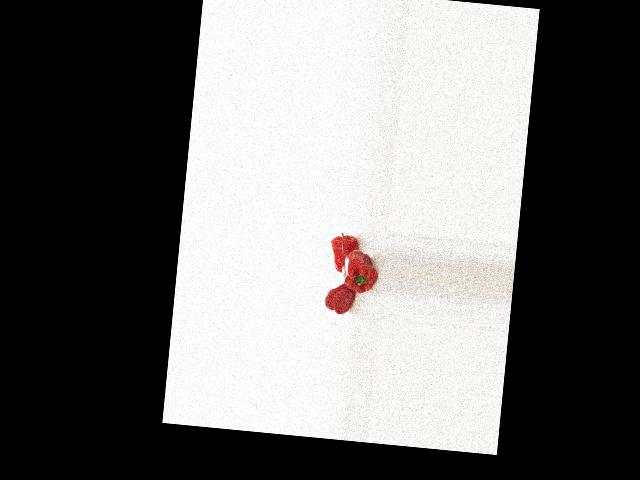bell_pepper: (322, 283, 357, 317)
